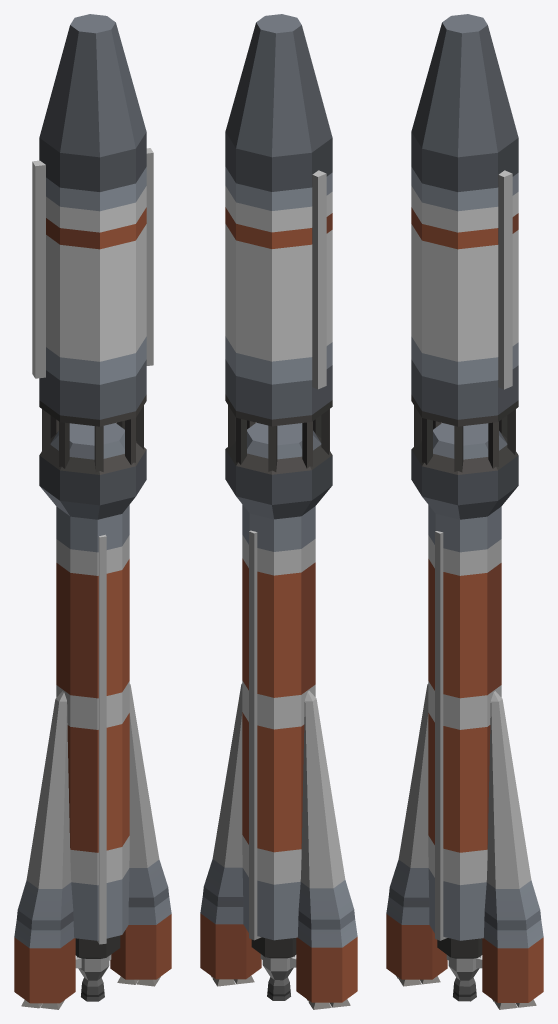
Rendered from SM_Veh_Rocket_14.fbx.
3 renders of one model, left to right at view 1: azimuth 30°, elevation 25°; view 2: azimuth 150°, elevation 25°; view 3: azimuth 330°, elevation 25°, orthographic.
Visible parts, largest first — view 1: SM_Veh_Rocket_14; view 2: SM_Veh_Rocket_14; view 3: SM_Veh_Rocket_14.
Part boxes in pixels (x1,y1,x2,y2): SM_Veh_Rocket_14: (14,14,171,1009); SM_Veh_Rocket_14: (200,14,357,1009); SM_Veh_Rocket_14: (386,14,543,1009).
Bounding box in the file's own units: 1.81 × 11.69 × 1.09.
